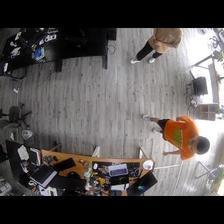normal: (141, 112, 208, 163), (130, 27, 183, 64)
